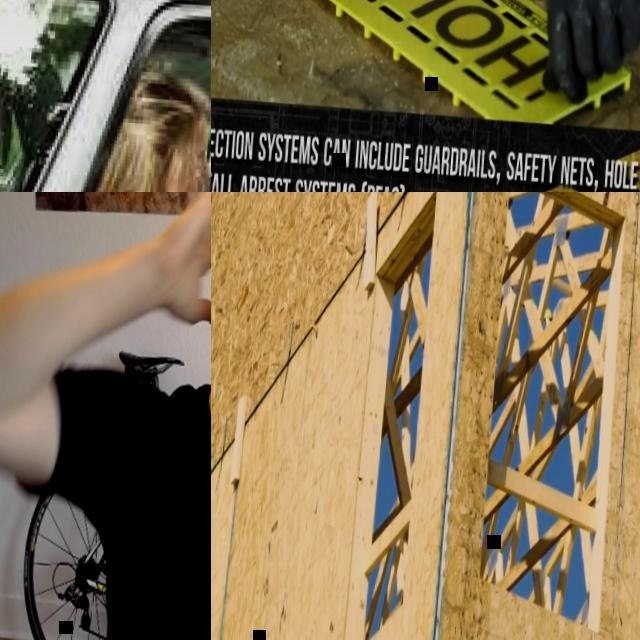NO-Hardhat: (125, 70, 211, 150)
NO-Mask: (157, 176, 202, 192)
NO-Safety Vest: (111, 402, 211, 640)
Person: (64, 192, 211, 640), (252, 0, 640, 114), (0, 61, 211, 192)
vehicle: (0, 0, 211, 192)
